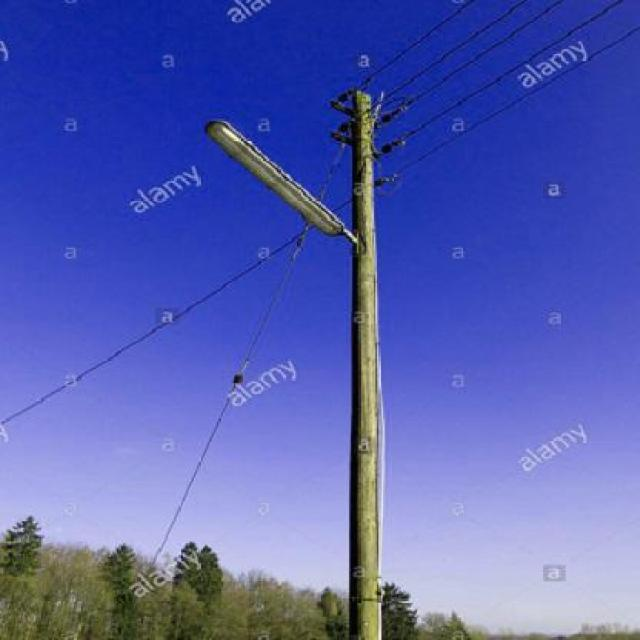light_pole: (312, 93, 408, 635)
